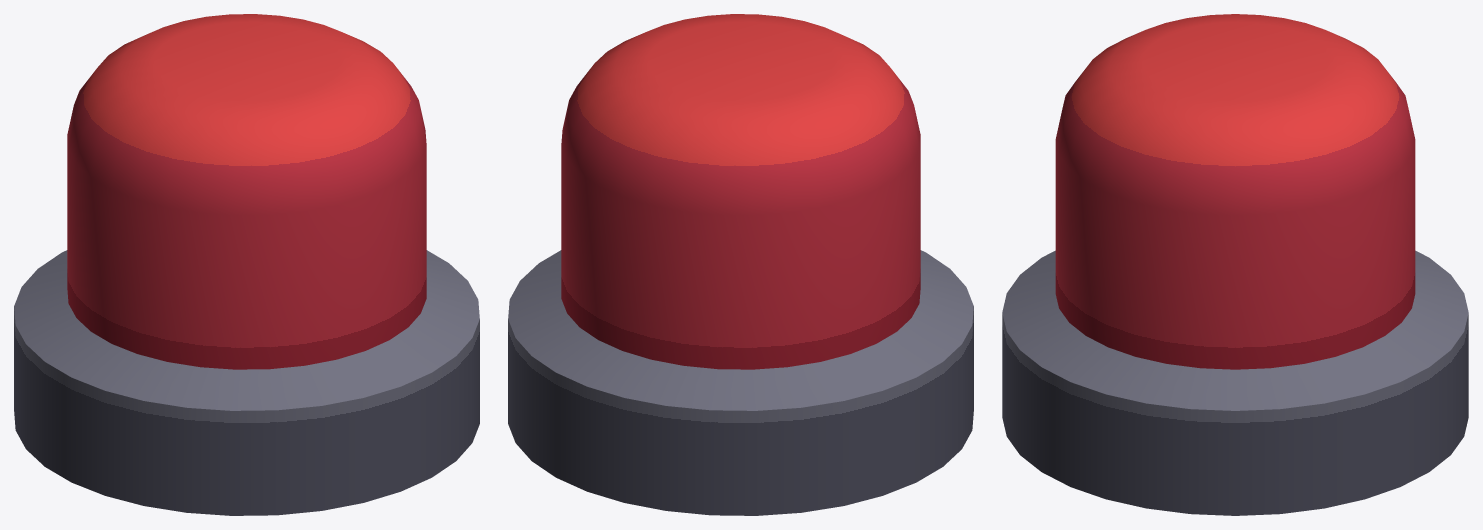
The model's file is luzError.fbx.
3 renders of one model, left to right at view 1: azimuth 30°, elevation 25°; view 2: azimuth 150°, elevation 25°; view 3: azimuth 270°, elevation 25°, orthographic.
Visible parts, largest first — view 1: luzError; view 2: luzError; view 3: luzError.
Part boxes in pixels (bbox=[...]): luzError: bbox=[14, 14, 479, 515]; luzError: bbox=[508, 14, 973, 515]; luzError: bbox=[1002, 14, 1468, 515].
Bounding box in the file's own units: 82.35 × 69.35 × 82.35.
